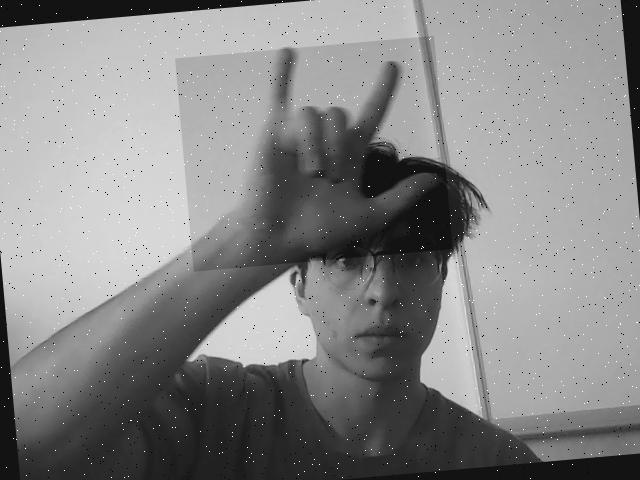I_Love_You: (175, 35, 452, 270)
